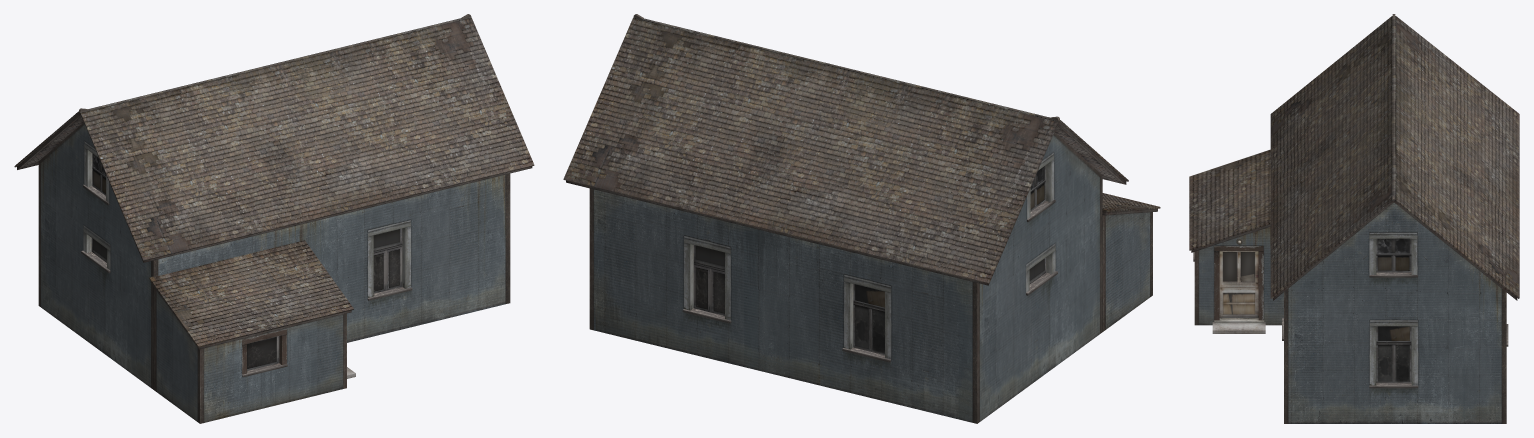
Rendered from old_wooden_house.glb.
3 views of the same model, side by side, from view 1: azimuth 30°, elevation 25°; view 2: azimuth 150°, elevation 25°; view 3: azimuth 270°, elevation 25° (orthographic). The views are drawn at different scales.
Parts seen in each view (by area): view 1: House21_House21_0; view 2: House21_House21_0; view 3: House21_House21_0.
Part boxes in pixels (<box>): House21_House21_0: <box>14,14,534,423</box>; House21_House21_0: <box>563,14,1160,423</box>; House21_House21_0: <box>1189,14,1519,423</box>.
Bounding box in the file's own units: 10.32 × 6.13 × 7.82.
1 material, 1 textured.
